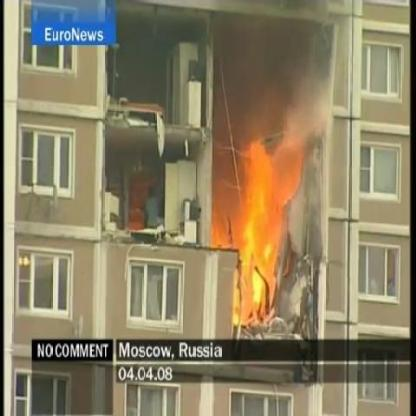fire: (228, 134, 302, 332)
